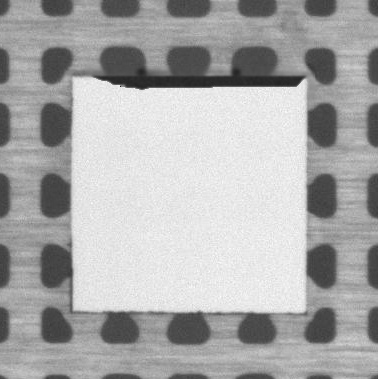DIE_BROKEN: (89, 72, 308, 91)
